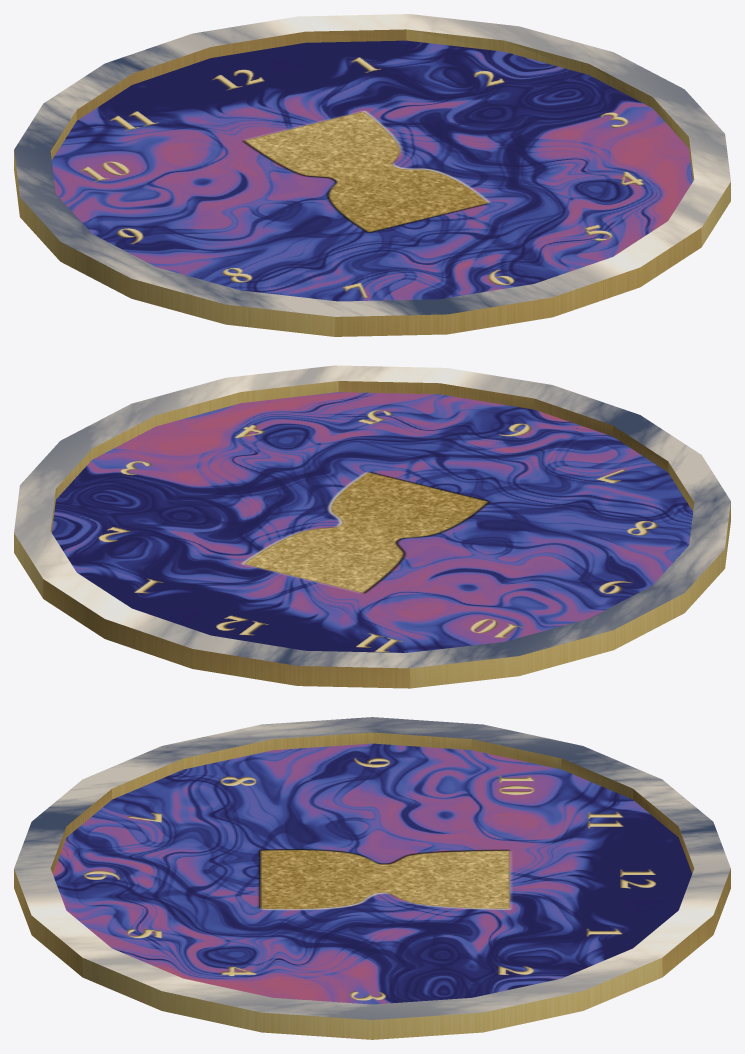
The model's file is Clock.fbx.
3 views of the same model, one above another, from view 1: azimuth 30°, elevation 25°; view 2: azimuth 150°, elevation 25°; view 3: azimuth 270°, elevation 25° (orthographic).
Visible parts, largest first — view 1: clockBase; view 2: clockBase; view 3: clockBase.
Part boxes in pixels (<box>): clockBase: <box>14,14,730,336</box>; clockBase: <box>14,365,730,688</box>; clockBase: <box>14,717,730,1039</box>.
Bounding box in the file's own units: 6.09 × 0.1868 × 6.09.
